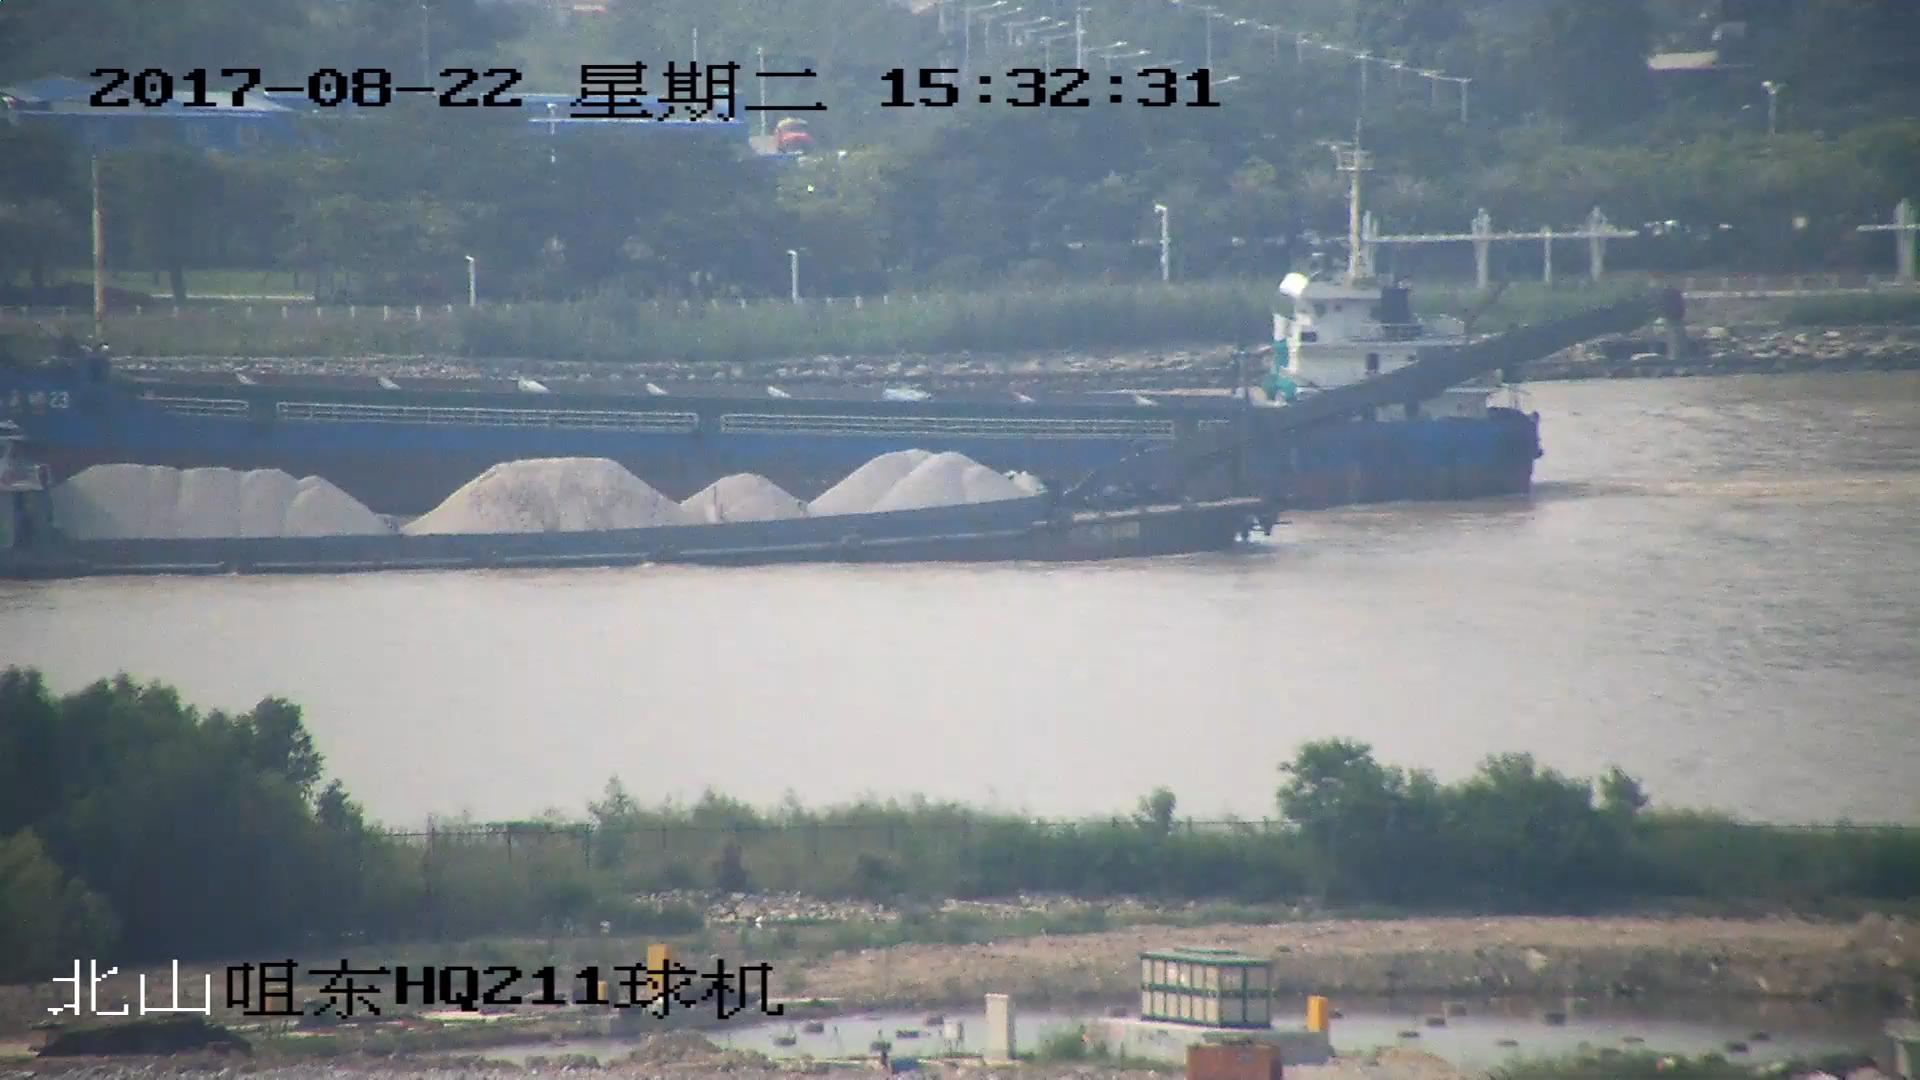general cargo ship: (1, 126, 1557, 507)
ore carrier: (1, 290, 1682, 585)
